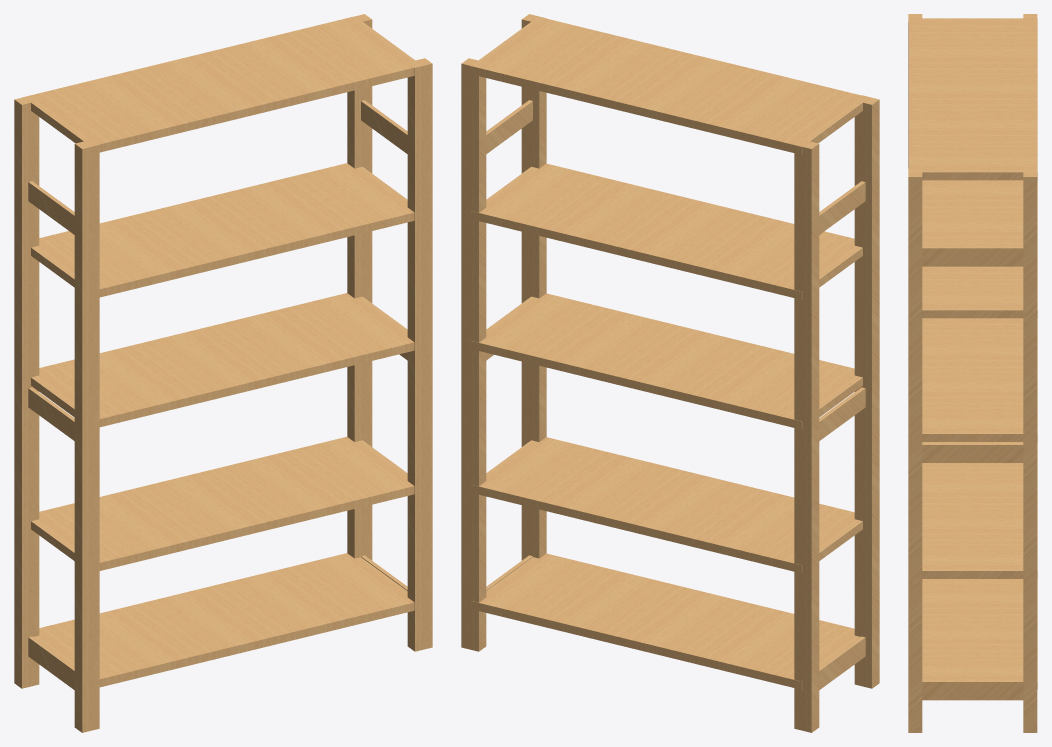
Rendered from sweethome3d-contributions-pinewood-rack-medium-height-195.glb.
3 views of the same model, side by side, from view 1: azimuth 30°, elevation 25°; view 2: azimuth 150°, elevation 25°; view 3: azimuth 270°, elevation 25° (orthographic). The views are drawn at different scales.
Parts seen in each view (by area): view 1: rack; view 2: rack; view 3: rack.
Boxes of the visible parts, x1,y1,x2,y2 form: rack: (14, 14, 432, 732); rack: (461, 14, 879, 732); rack: (908, 14, 1037, 732).
Size of the model in its own units: 89.8 by 143 by 30.17.
1 material, 1 textured.
